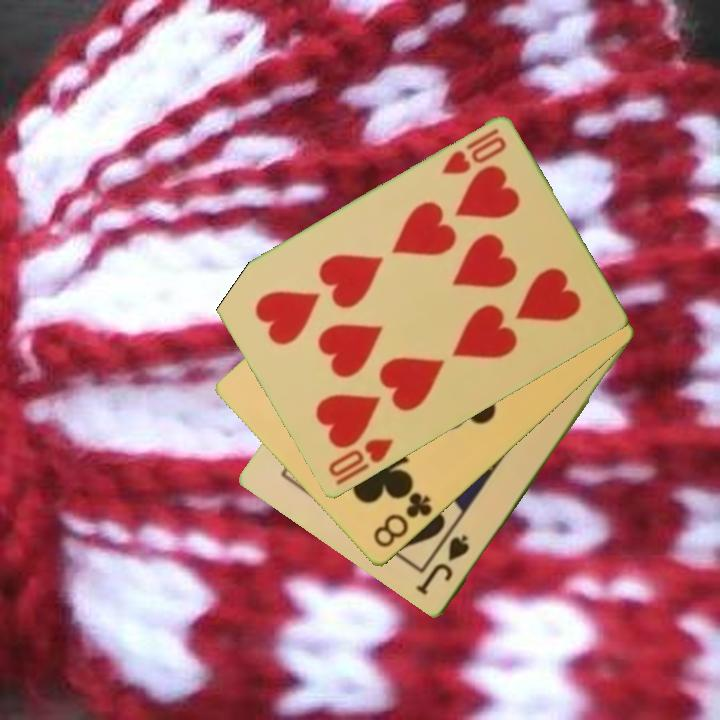10h: (324, 435, 397, 489), (438, 125, 510, 178)
8c: (369, 489, 435, 551)
Js: (414, 531, 473, 599)
